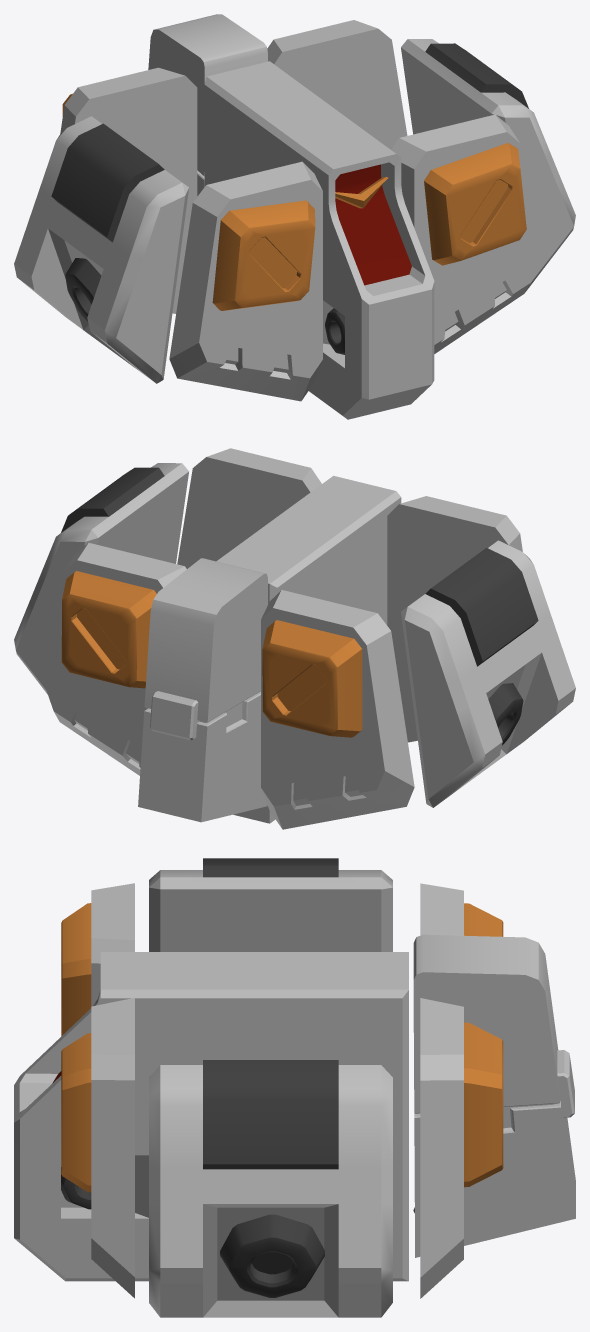
The model's file is Gramps_waist.fbx.
The picture shows the model from 3 angles, top to bottom: view 1: azimuth 30°, elevation 25°; view 2: azimuth 150°, elevation 25°; view 3: azimuth 270°, elevation 25°; orthographic projection. The views are drawn at different scales.
Visible parts, largest first — view 1: Cube.120, Cube.121, Cube.118, Cube.119; view 2: Cube.119, Cube.121, Cube.118, Cube.120; view 3: Cube.118, Cube.121, Cube.120, Cube.119.
Boxes of the visible parts, bbox=[...] form: Cube.120: bbox=[169, 114, 538, 401]; Cube.121: bbox=[148, 14, 434, 419]; Cube.118: bbox=[14, 39, 575, 383]; Cube.119: bbox=[60, 20, 407, 313]; Cube.119: bbox=[45, 543, 414, 829]; Cube.121: bbox=[138, 475, 401, 823]; Cube.118: bbox=[14, 463, 575, 807]; Cube.120: bbox=[177, 448, 522, 742]; Cube.118: bbox=[149, 858, 392, 1317]; Cube.121: bbox=[14, 934, 575, 1281]; Cube.120: bbox=[61, 883, 134, 1298]; Cube.119: bbox=[420, 883, 503, 1298].
Bounding box in the file's own units: 481 × 248 × 408.
